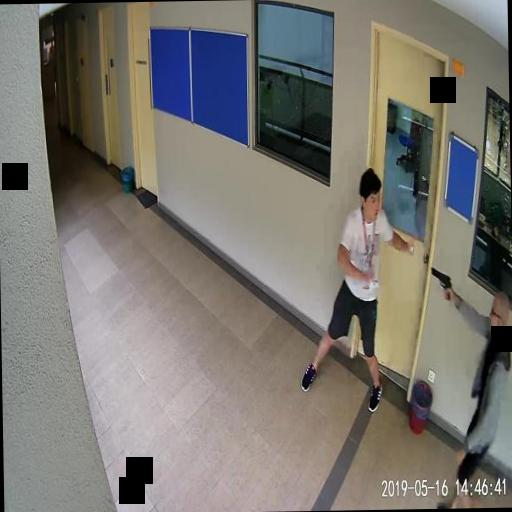Handgun: (430, 266, 452, 300)
